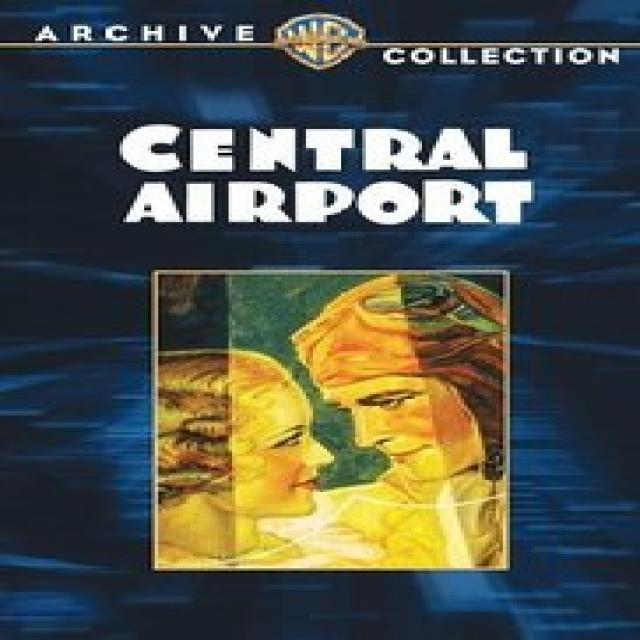movie-judul: (116, 109, 551, 238)
picture: (157, 271, 510, 568)
